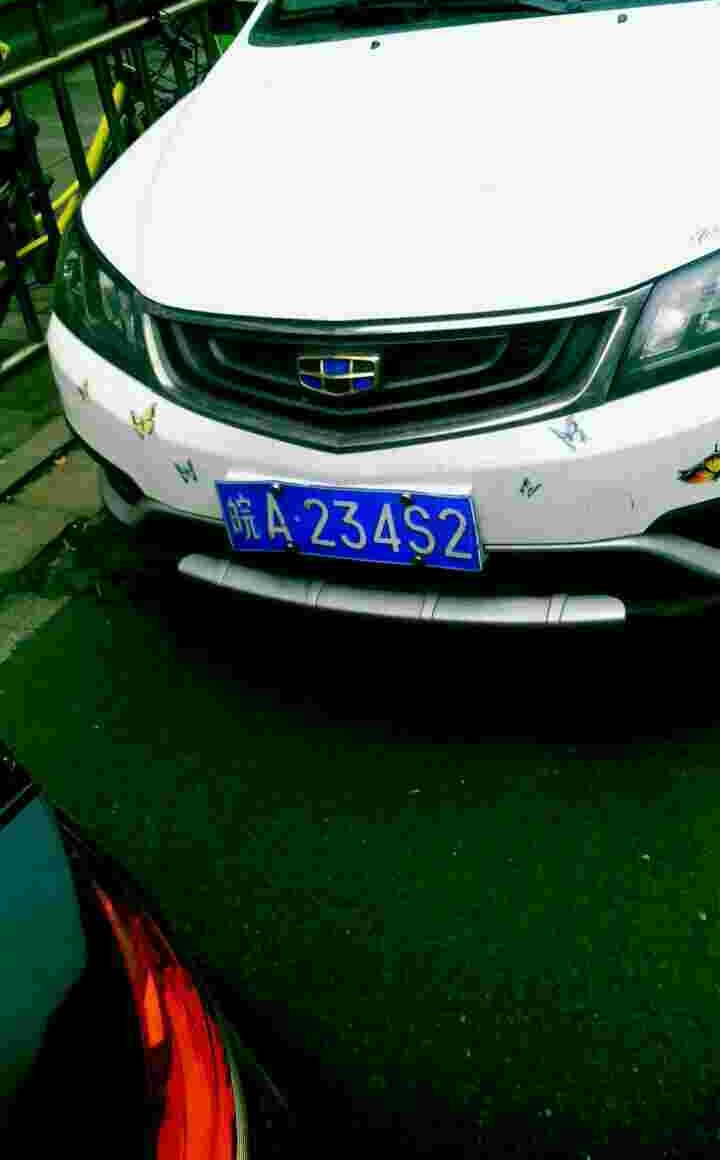license_plate: (221, 480, 484, 579)
